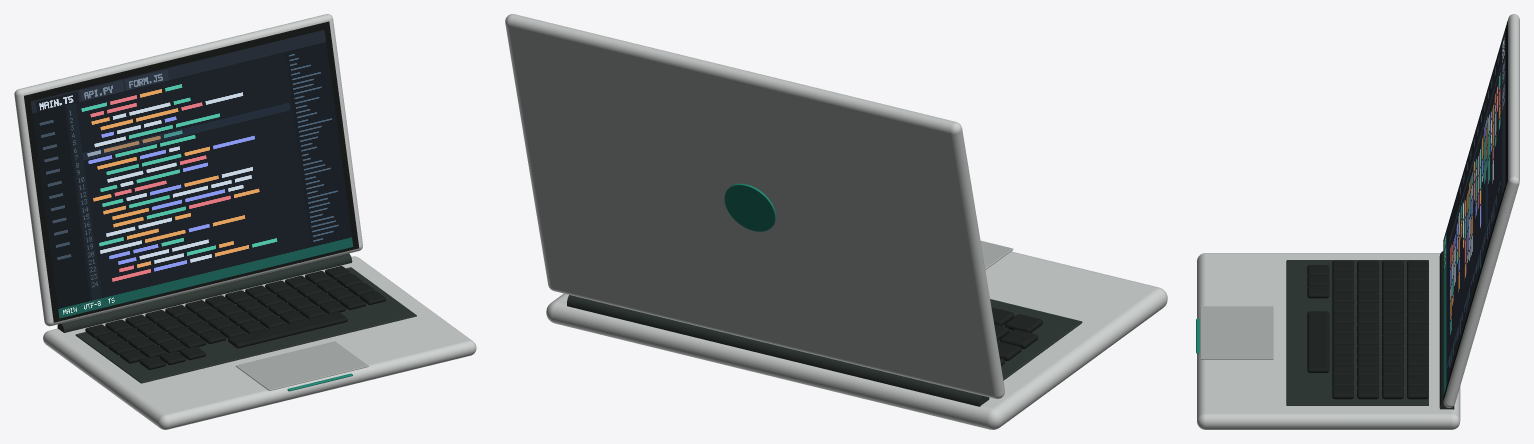
Rendered from service-software.glb.
The picture shows the model from 3 angles, left to right: view 1: azimuth 30°, elevation 25°; view 2: azimuth 150°, elevation 25°; view 3: azimuth 270°, elevation 25°; orthographic projection. The views are drawn at different scales.
Visible parts, largest first — view 1: laptop-lid, laptop-base, space-key; view 2: laptop-lid, laptop-base; view 3: laptop-base, laptop-lid, space-key.
Part boxes in pixels (<box>): laptop-lid: <box>14,14,362,326</box>; laptop-base: <box>43,253,476,429</box>; space-key: <box>228,312,347,348</box>; laptop-lid: <box>505,14,1004,398</box>; laptop-base: <box>546,240,1167,429</box>; laptop-base: <box>1196,251,1460,429</box>; laptop-lid: <box>1443,14,1519,407</box>; space-key: <box>1307,311,1329,372</box>.
Size of the model in its own units: 5.4 by 3.83 by 4.42.
Materials: 7 (1 with a texture image).
